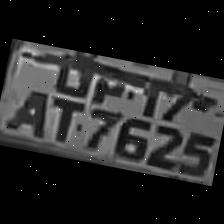1: (130, 68, 168, 116)
2: (143, 118, 183, 170)
5: (176, 124, 218, 176)
6: (108, 110, 154, 162)
7: (75, 100, 117, 154), (150, 77, 194, 124)
A: (5, 82, 55, 138)
P: (84, 55, 134, 108)
T: (40, 91, 86, 144)
U: (44, 47, 97, 96)
